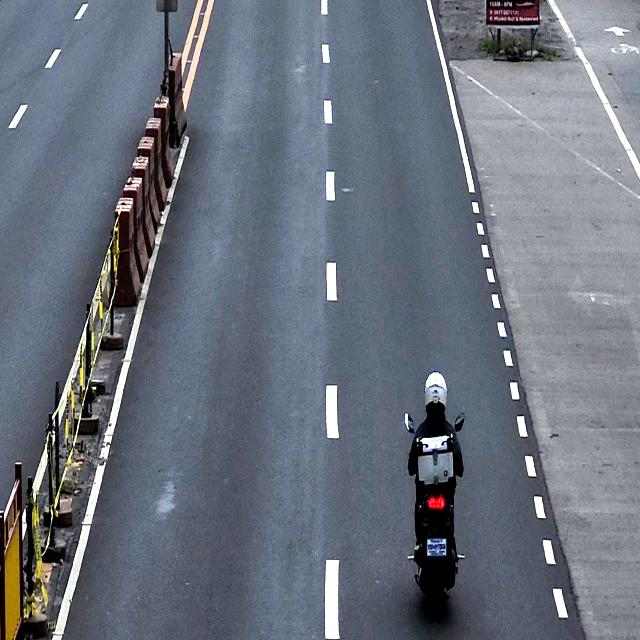License-Plate: (426, 536, 447, 557)
Motorcycle: (403, 411, 465, 606)
